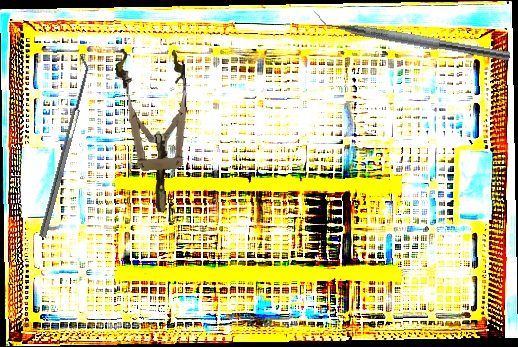Chopper: (310, 6, 513, 62)
Spatula Surgical: (32, 55, 94, 238)
Speculum: (114, 44, 195, 215)
